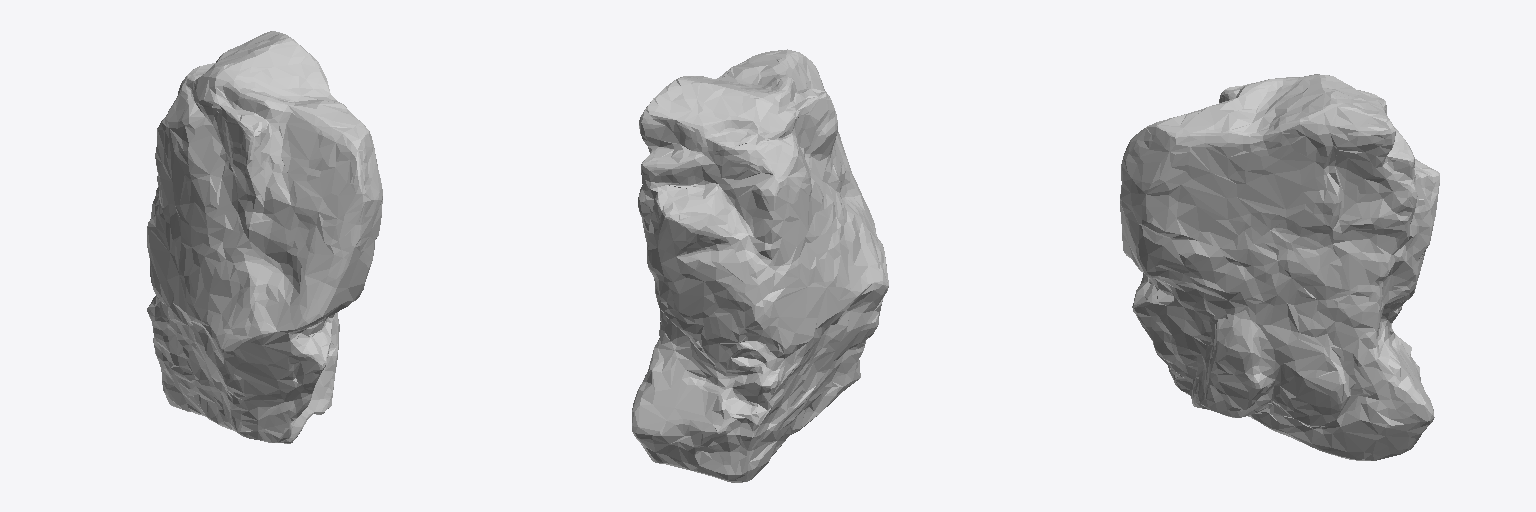
Rendered from rock.obj.
3 renders of one model, left to right at view 1: azimuth 30°, elevation 25°; view 2: azimuth 150°, elevation 25°; view 3: azimuth 270°, elevation 25°, orthographic.
Visible parts, largest first — view 1: rock; view 2: rock; view 3: rock.
Part boxes in pixels (x1,y1,x2,y2): rock: (147,31,382,443); rock: (632,49,888,482); rock: (1120,74,1439,460).
Bounding box in the file's own units: 136 × 303 × 241.